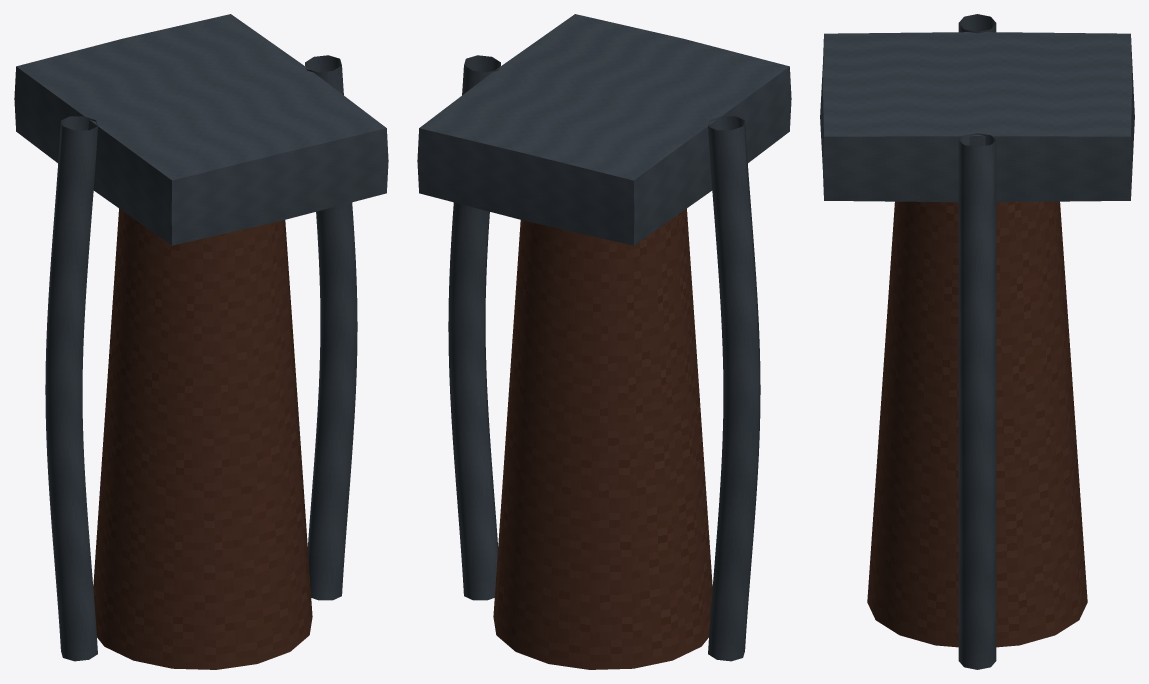
3 renders of one model, left to right at view 1: azimuth 30°, elevation 25°; view 2: azimuth 150°, elevation 25°; view 3: azimuth 270°, elevation 25°, orthographic.
Visible parts, largest first — view 1: leather.0, iron.1, iron.2, iron.3; view 2: leather.0, iron.1, iron.2, iron.3; view 3: leather.0, iron.1, iron.3, iron.2.
Boxes of the visible parts, x1,y1,x2,y2 form: leather.0: (93,208,312,669); iron.1: (14,14,388,245); iron.2: (45,116,97,661); iron.3: (305,55,357,600); leather.0: (493,208,712,669); iron.1: (417,14,791,245); iron.2: (708,116,760,661); iron.3: (448,55,500,600); leather.0: (867,201,1087,647); iron.1: (820,32,1134,202); iron.3: (958,133,996,669); iron.2: (958,14,996,33).
Bounding box in the file's own units: 0.1112 × 0.1832 × 0.1.
2 materials, 2 textured.
